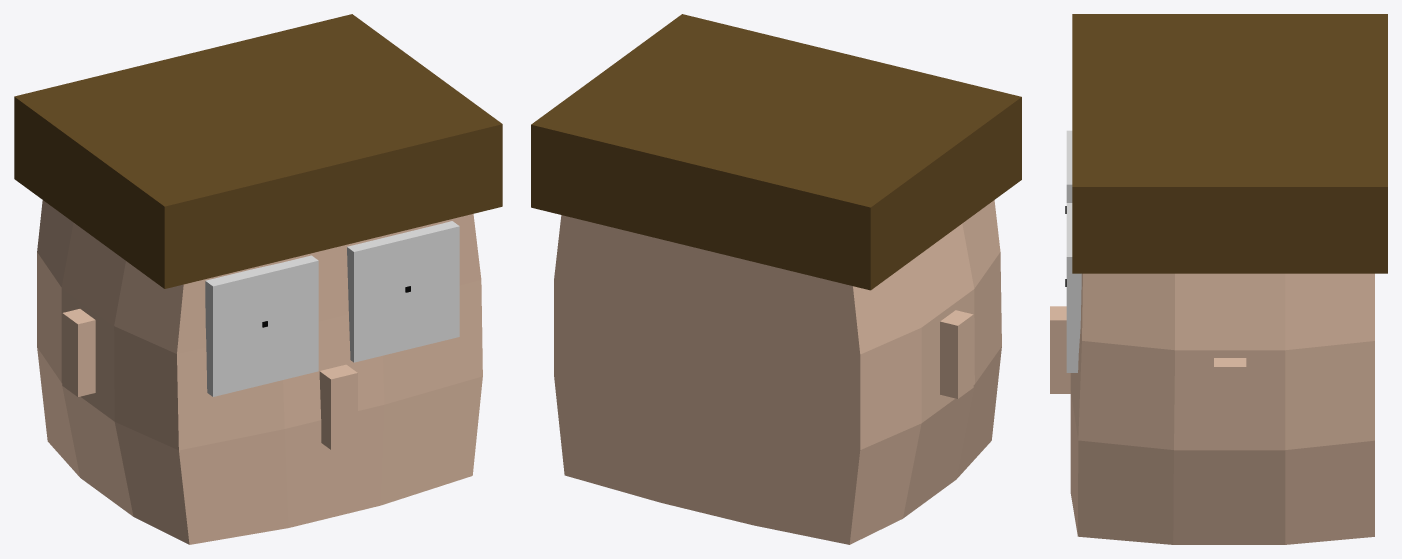
The model's file is gubb2.fbx.
3 views of the same model, side by side, from view 1: azimuth 30°, elevation 25°; view 2: azimuth 150°, elevation 25°; view 3: azimuth 270°, elevation 25° (orthographic). The views are drawn at different scales.
Visible parts, largest first — view 1: polySurface3; view 2: polySurface3; view 3: polySurface3.
Boxes of the visible parts, x1=… form: polySurface3: x1=14, y1=14, x2=502, y2=544; polySurface3: x1=531, y1=14, x2=1021, y2=544; polySurface3: x1=1050, y1=14, x2=1387, y2=544.
Bounding box in the file's own units: 14.02 × 13.7 × 10.38.
